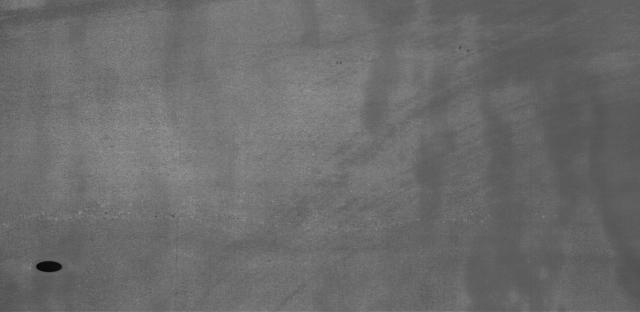punching_hole: (33, 259, 65, 276)
